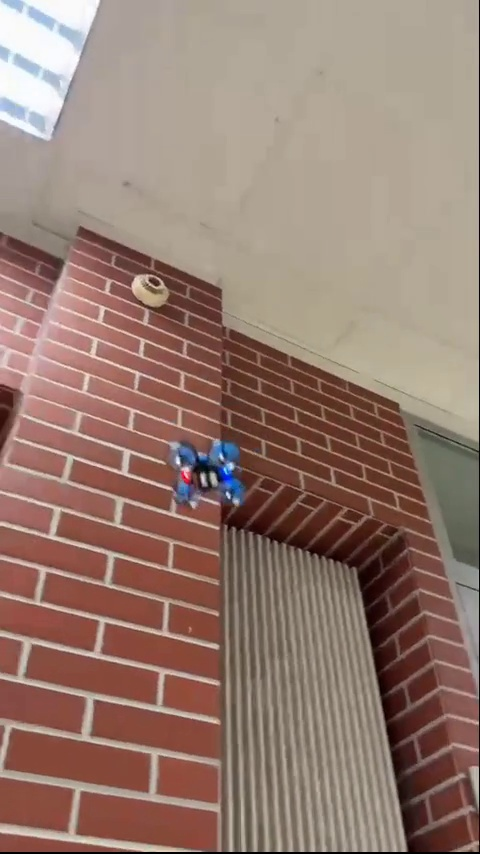drone: (168, 441, 244, 507)
